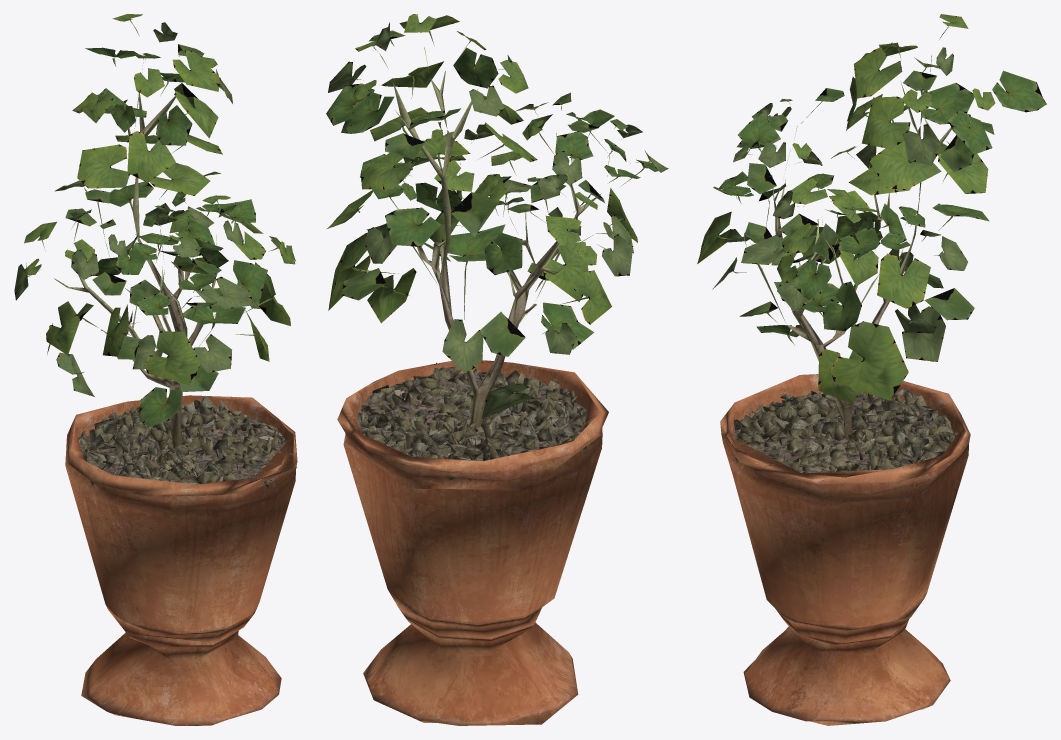
The model's file is potted_plant_01.glb.
The picture shows the model from 3 angles, left to right: view 1: azimuth 30°, elevation 25°; view 2: azimuth 150°, elevation 25°; view 3: azimuth 270°, elevation 25°; orthographic projection. The views are drawn at different scales.
Visible parts, largest first — view 1: potted_plant_01_stem, potted_plant_01_leaves; view 2: potted_plant_01_stem, potted_plant_01_leaves; view 3: potted_plant_01_stem, potted_plant_01_leaves.
Boxes of the visible parts, left/top/right/bottom form: potted_plant_01_stem: left=54, top=53, right=297, bottom=725; potted_plant_01_leaves: left=14, top=14, right=295, bottom=426; potted_plant_01_stem: left=337, top=47, right=609, bottom=725; potted_plant_01_leaves: left=326, top=14, right=668, bottom=418; potted_plant_01_stem: left=720, top=55, right=970, bottom=725; potted_plant_01_leaves: left=697, top=14, right=1046, bottom=403.
Size of the model in its own units: 0.5754 by 1.33 by 0.6336.
2 materials, 2 textured.
